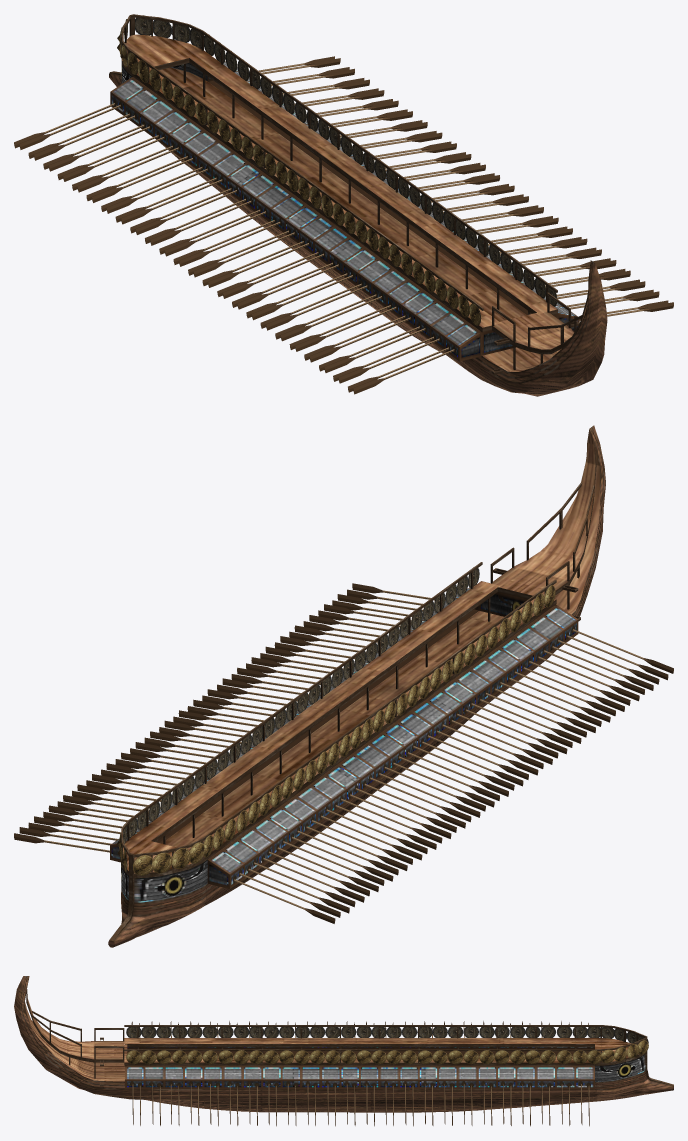
File: pers_ship_ram.glb
3 renders of one model, top to bottom at view 1: azimuth 30°, elevation 25°; view 2: azimuth 150°, elevation 25°; view 3: azimuth 270°, elevation 25°, orthographic. The views are drawn at different scales.
Parts seen in each view (by area): view 1: pers_ship_ram_part0; view 2: pers_ship_ram_part0; view 3: pers_ship_ram_part0.
Part boxes in pixels (bbox=[...]): pers_ship_ram_part0: bbox=[109, 14, 607, 396]; pers_ship_ram_part0: bbox=[108, 425, 605, 947]; pers_ship_ram_part0: bbox=[14, 976, 673, 1112].
Size of the model in its own units: 2.65 by 1.6 by 7.
4 materials, 4 textured.
